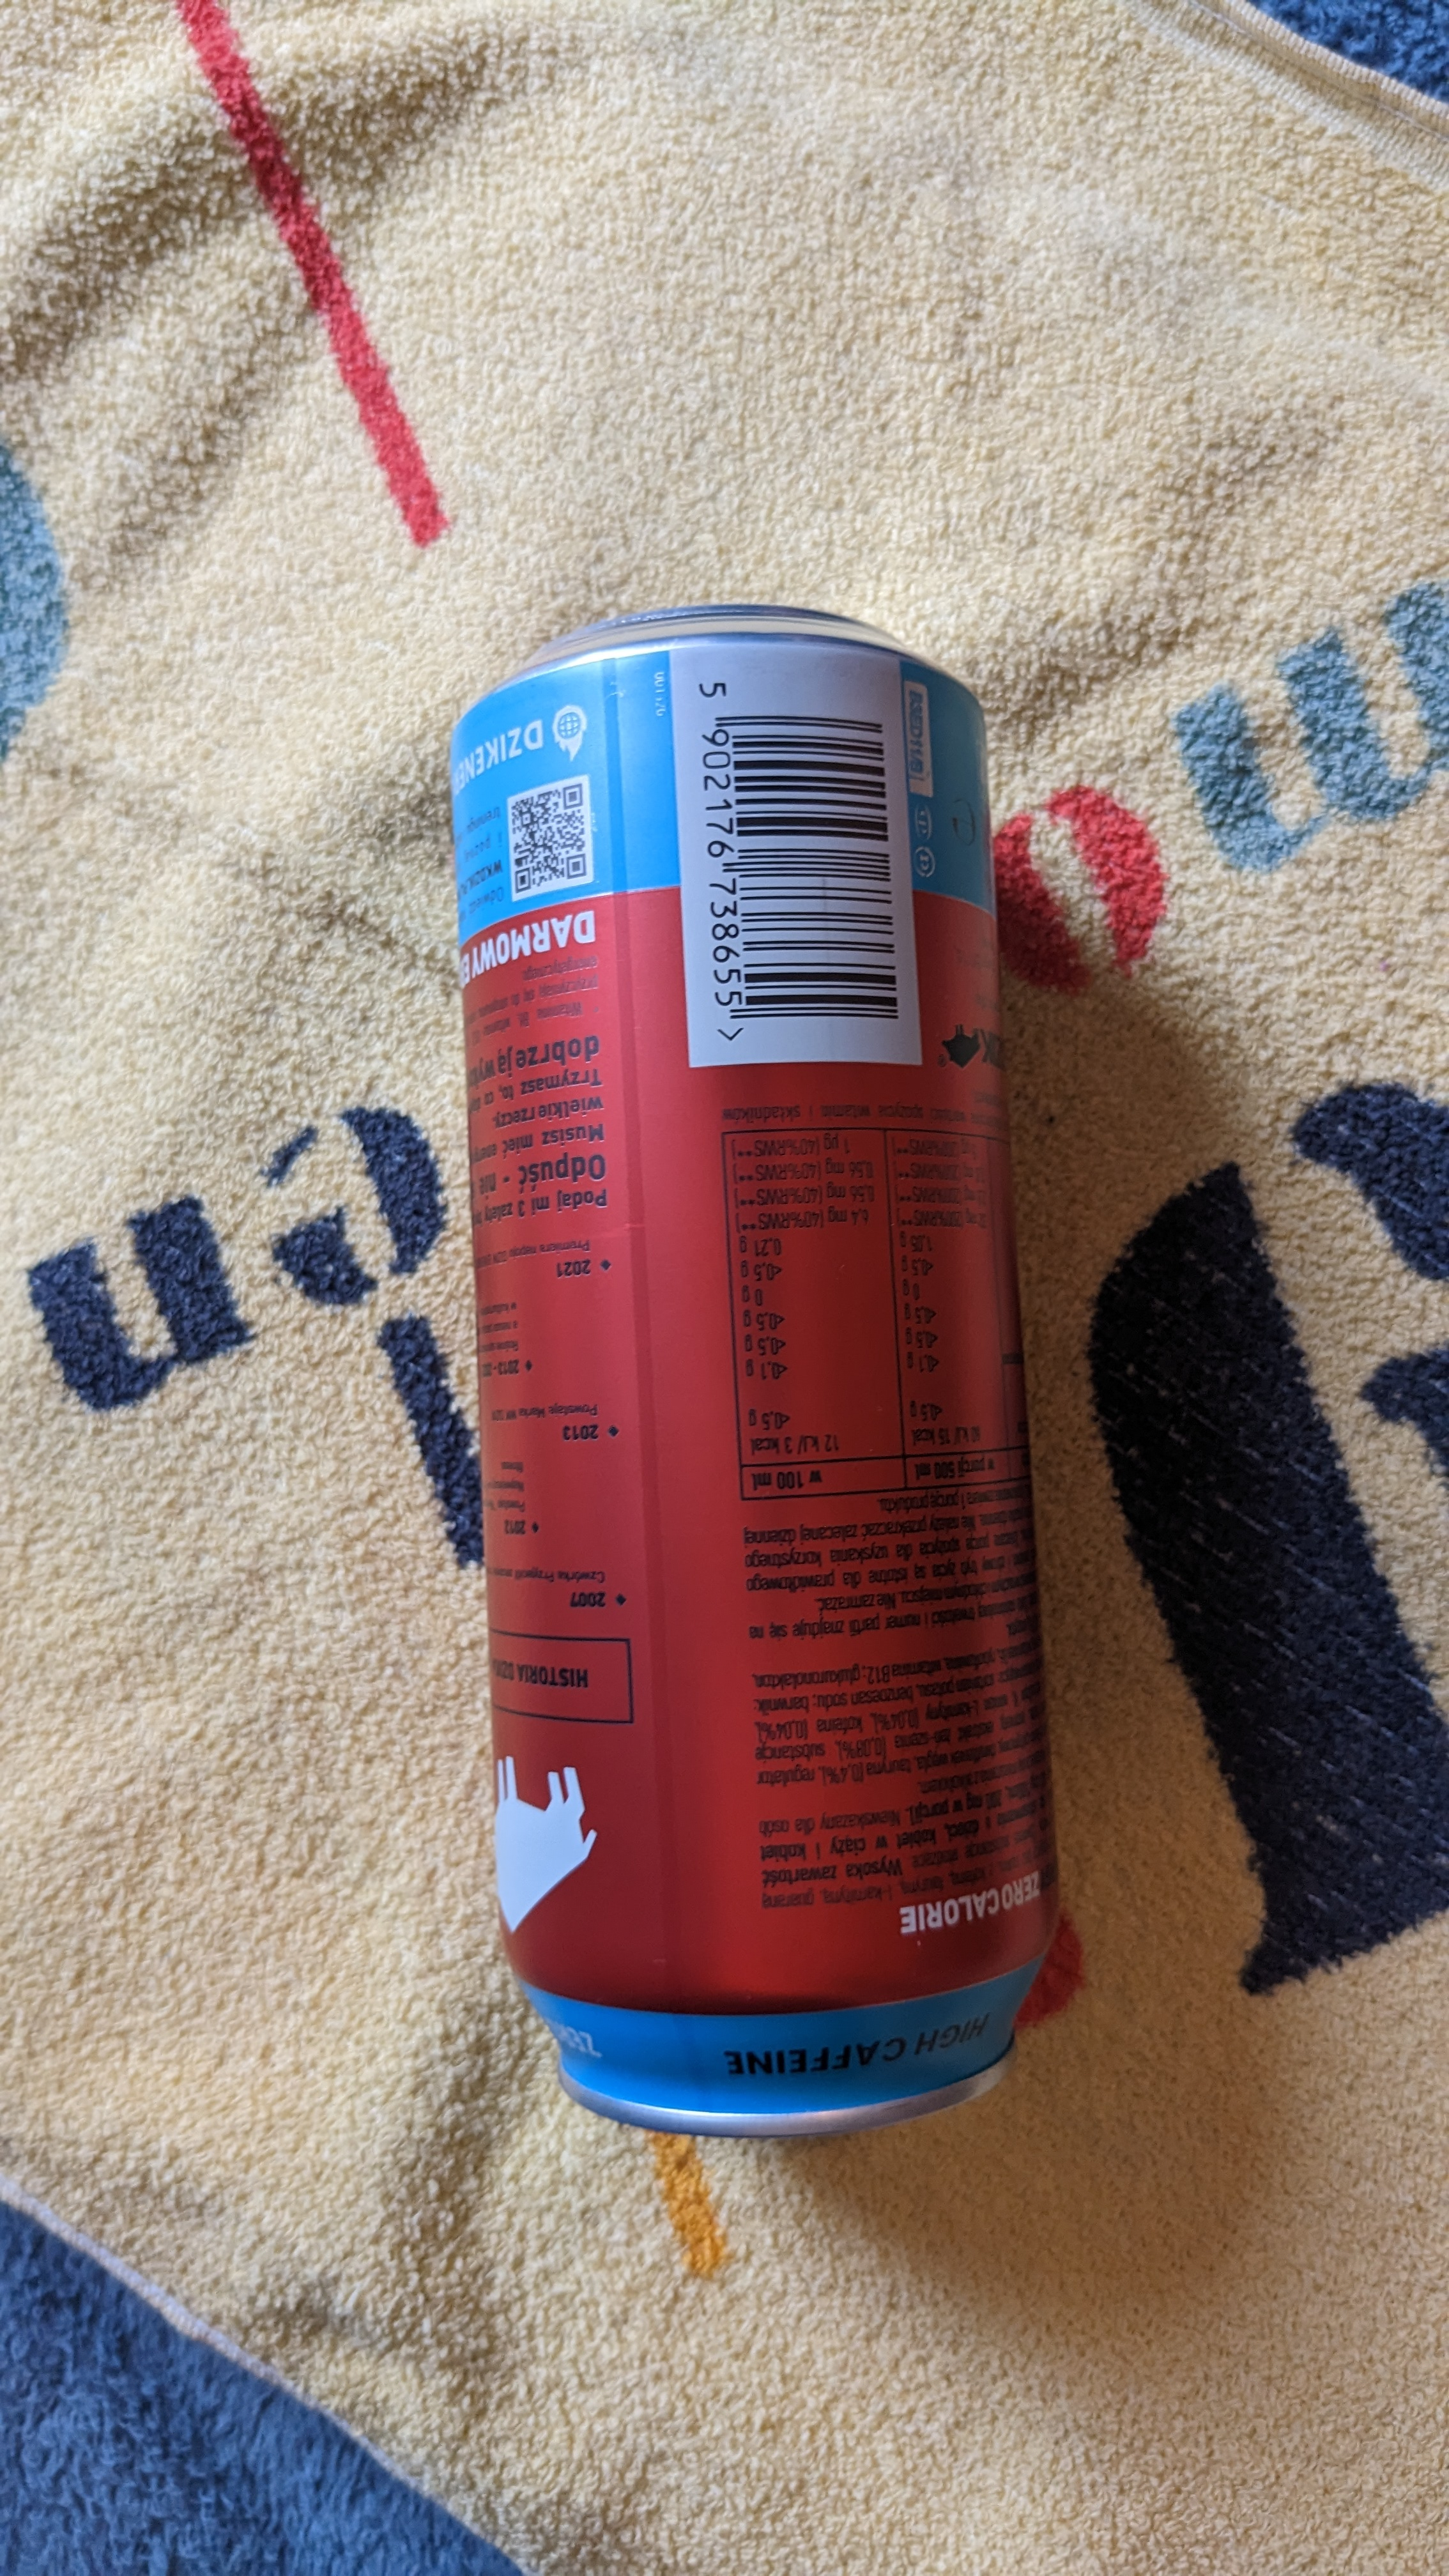dzik: (405, 605, 1115, 2146)
